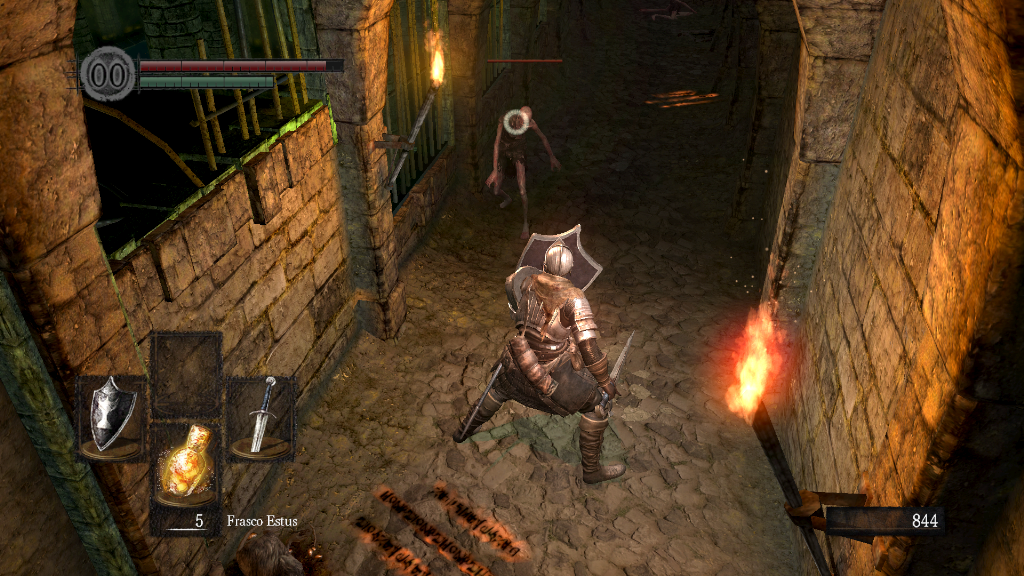health: (138, 58, 343, 71)
hollow: (486, 104, 565, 243)
humanity: (80, 45, 136, 102)
player: (454, 224, 638, 485)
souls: (825, 506, 945, 536)
stamina: (138, 74, 274, 88)
